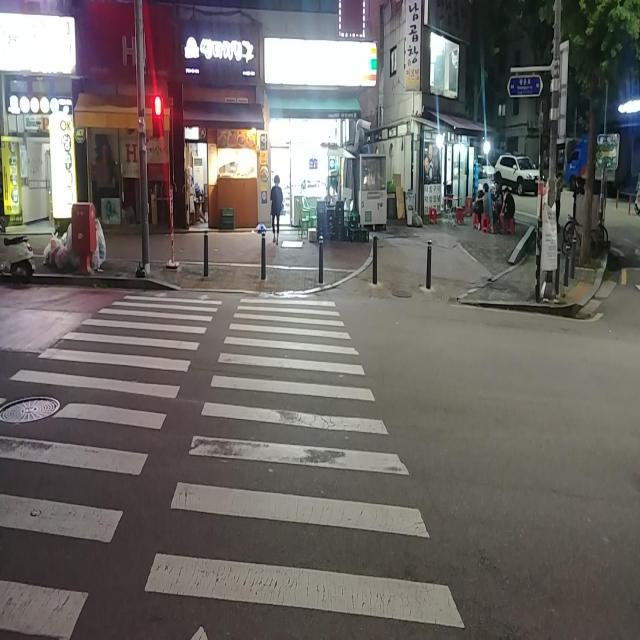빨간불: (150, 91, 164, 139)
횡단보도: (0, 287, 469, 640)
